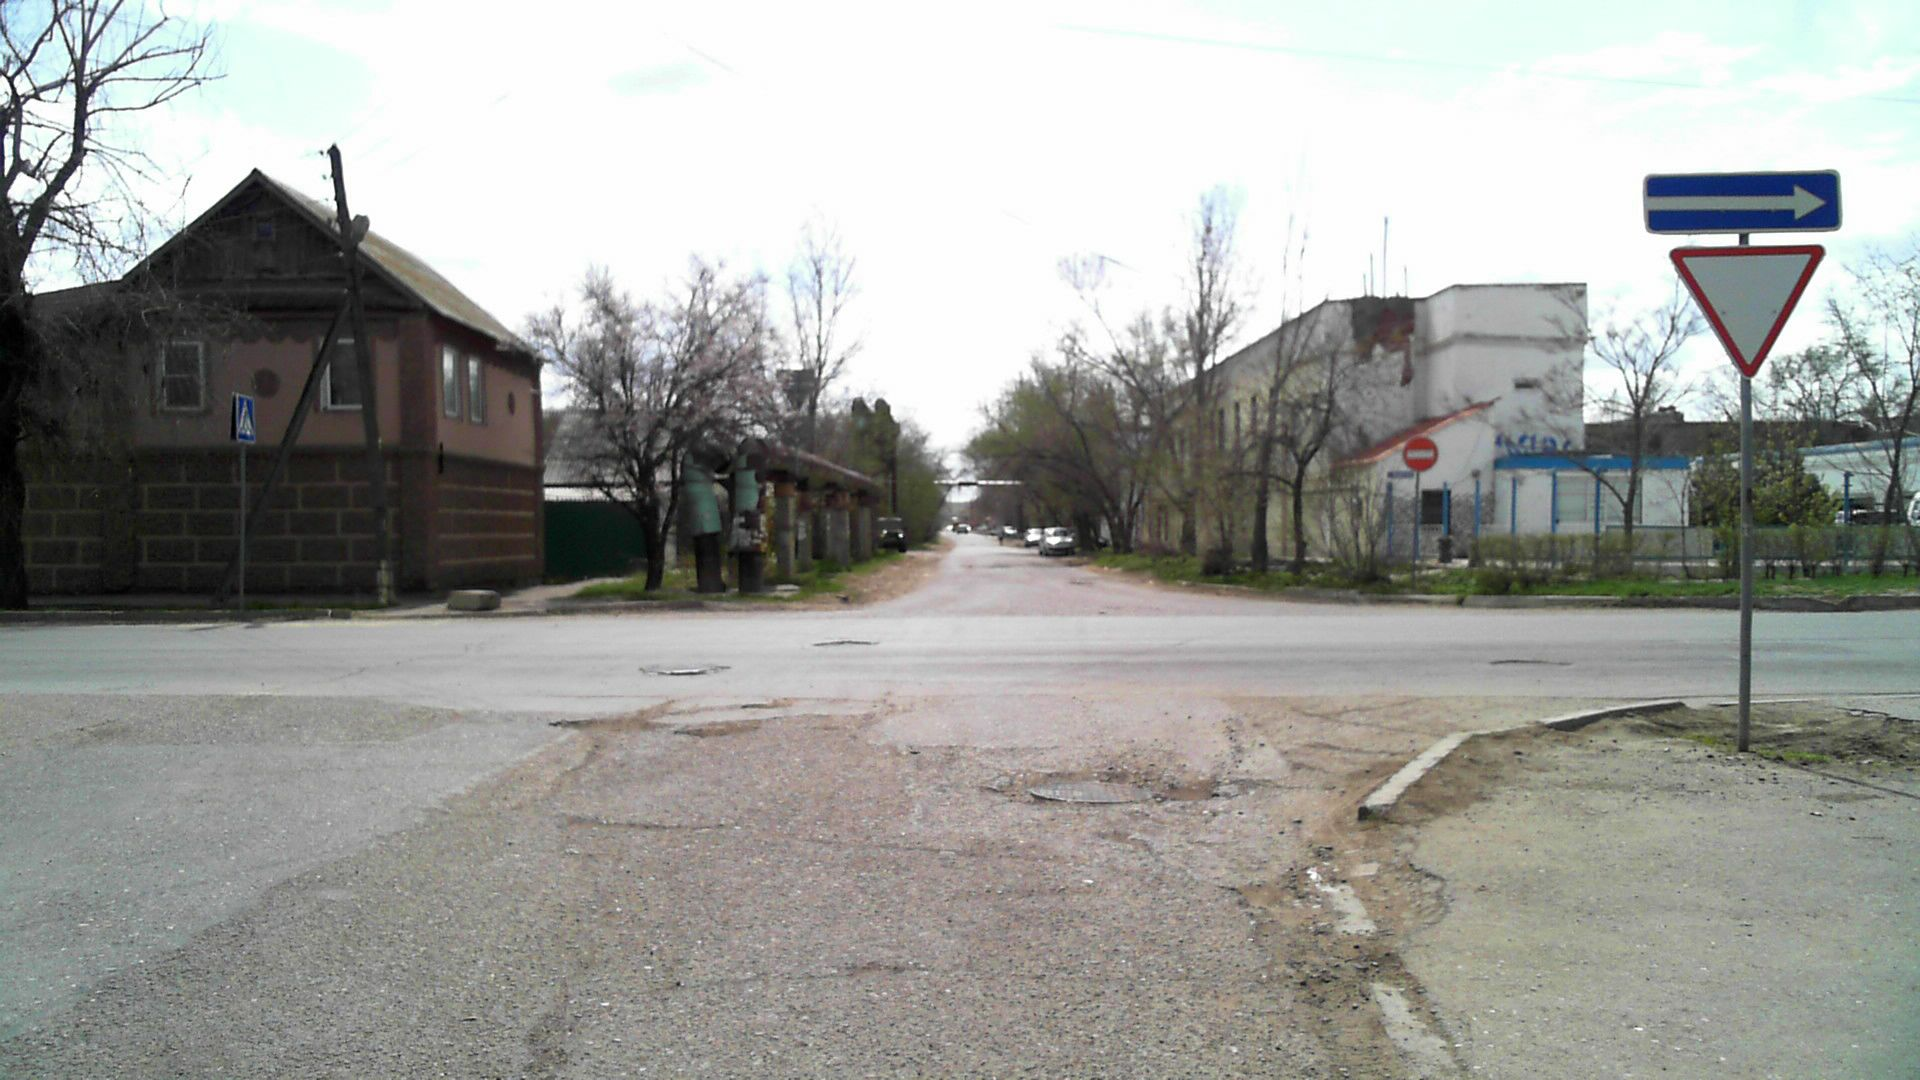One-Way Traffic: (1642, 171, 1840, 232)
